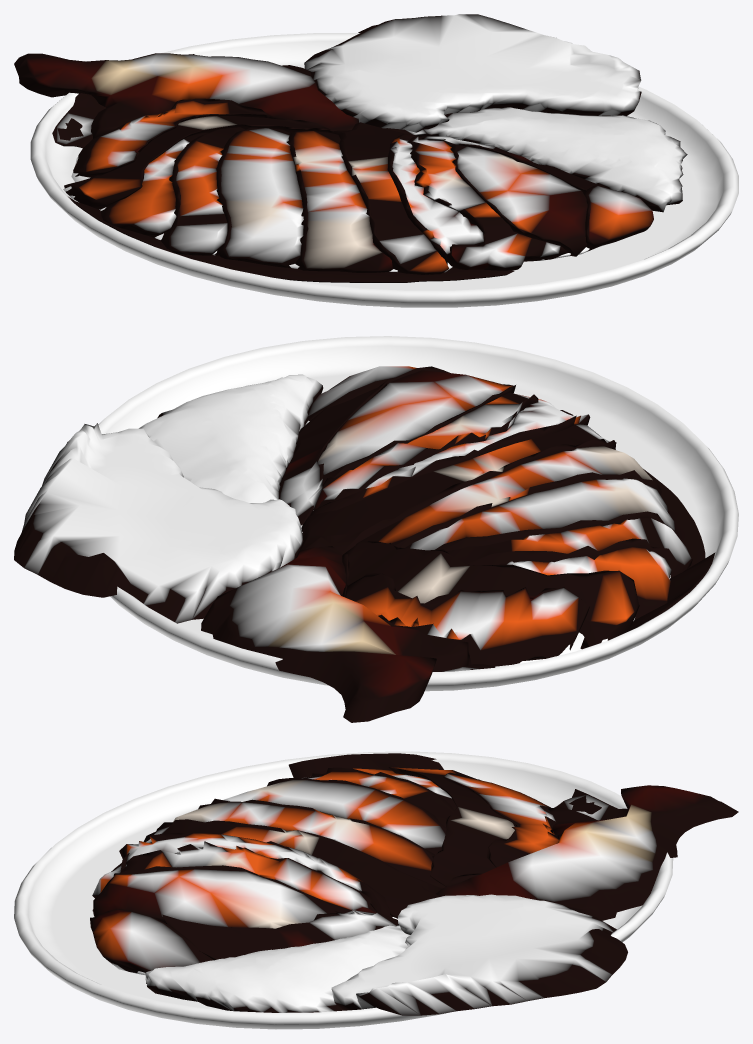
The picture shows the model from 3 angles, top to bottom: view 1: azimuth 30°, elevation 25°; view 2: azimuth 150°, elevation 25°; view 3: azimuth 270°, elevation 25°; orthographic projection. The views are drawn at different scales.
Visible parts, largest first — view 1: SM_D19; view 2: SM_D19; view 3: SM_D19.
Boxes of the visible parts, box(x1,y1,x2,y2) form: SM_D19: box(14, 14, 738, 307); SM_D19: box(14, 336, 738, 722); SM_D19: box(14, 751, 738, 1029).
Size of the model in its own units: 0.2693 by 0.03 by 0.3098.
